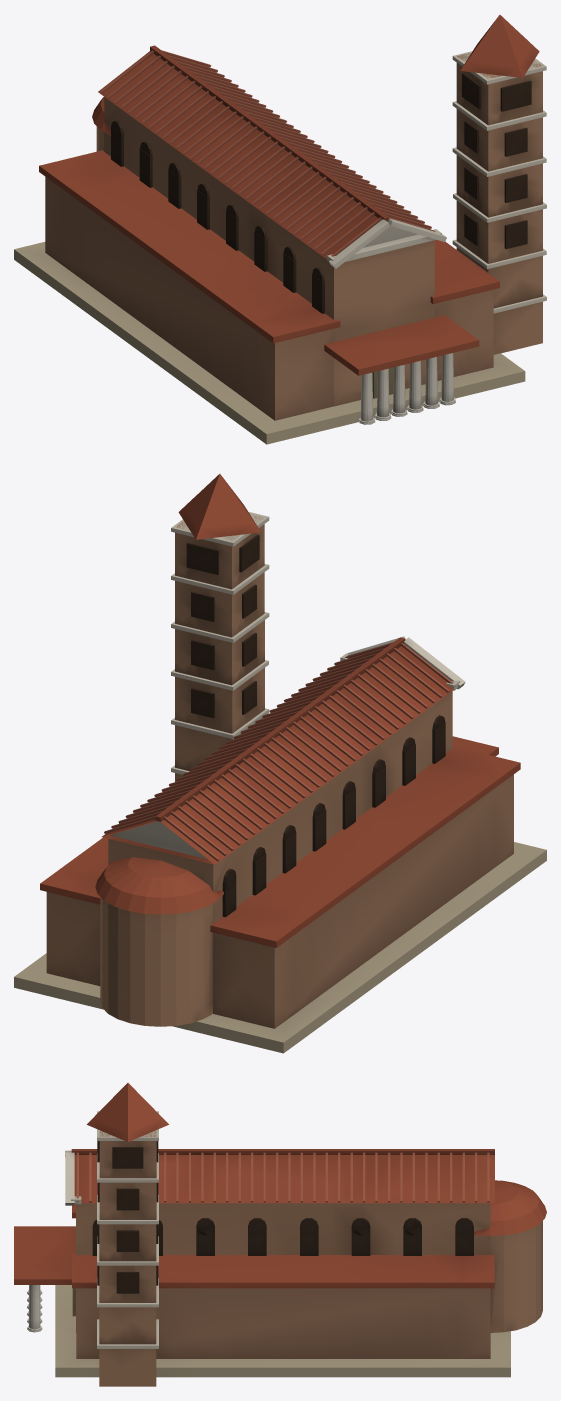
Rendered from santa-maria-in-cosmedin.glb.
3 views of the same model, one above another, from view 1: azimuth 30°, elevation 25°; view 2: azimuth 150°, elevation 25°; view 3: azimuth 270°, elevation 25° (orthographic). The views are drawn at different scales.
Visible parts, largest first — view 1: p2_campanile, p1_porch, p0_base; view 2: p2_campanile, p1_porch, p0_base; view 3: p2_campanile, p1_porch, p0_base.
Part boxes in pixels (box(x1,y1,x2,y2)): p2_campanile: box(39, 15, 546, 375); p1_porch: box(45, 97, 493, 424); p0_base: box(14, 242, 525, 444); p2_campanile: box(40, 474, 520, 947); p1_porch: box(46, 691, 513, 1028); p0_base: box(14, 842, 546, 1053); p2_campanile: box(14, 1083, 546, 1386); p1_porch: box(27, 1203, 542, 1358); p0_base: box(55, 1285, 510, 1377).
Bounding box in the file's own units: 31.5 × 32.1 × 51.46.
